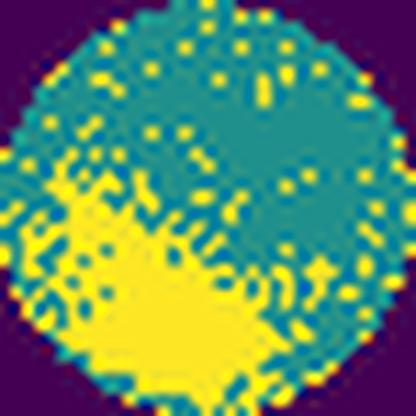Loc: (21, 144, 293, 416)
